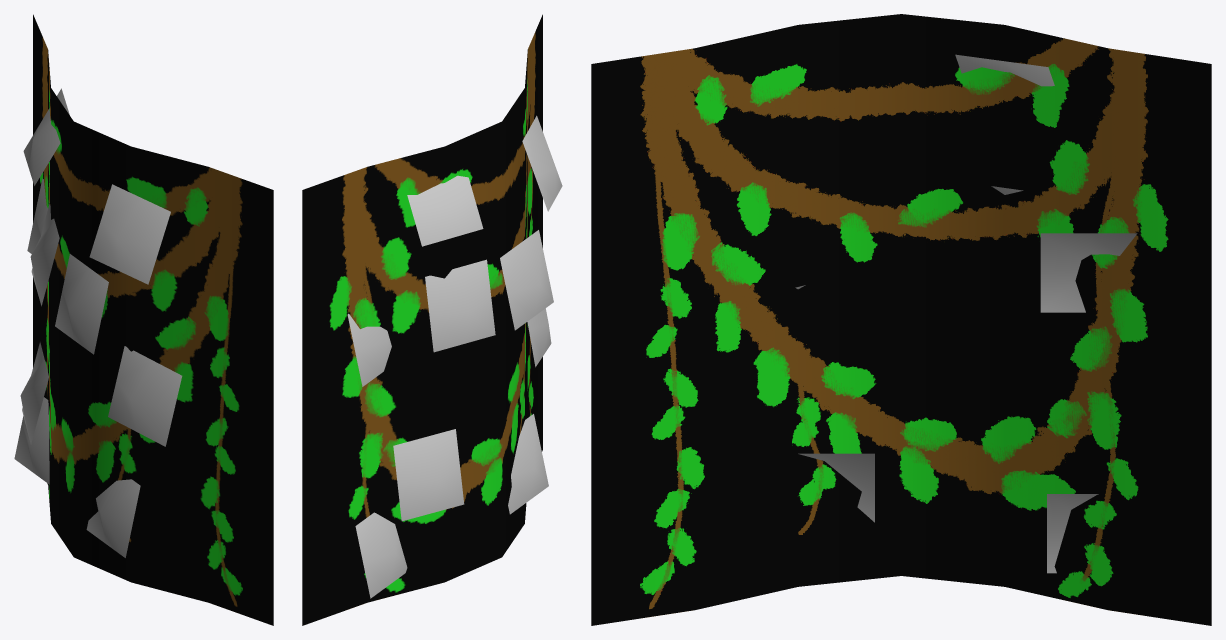
Rendered from vine03.fbx.
3 renders of one model, left to right at view 1: azimuth 30°, elevation 25°; view 2: azimuth 150°, elevation 25°; view 3: azimuth 270°, elevation 25°, orthographic. The views are drawn at different scales.
Parts seen in each view (by area): view 1: vine03, pPlane70; view 2: vine03, pPlane70; view 3: vine03, pPlane70.
Part boxes in pixels (left/top/right/bottom): vine03: left=33, top=14, right=273, bottom=625; pPlane70: left=14, top=88, right=182, bottom=557; vine03: left=302, top=14, right=542, bottom=625; pPlane70: left=347, top=115, right=562, bottom=598; vine03: left=591, top=14, right=1211, bottom=625; pPlane70: left=795, top=54, right=1137, bottom=573.
Size of the model in its own units: 1.05 by 4.33 by 4.33.
